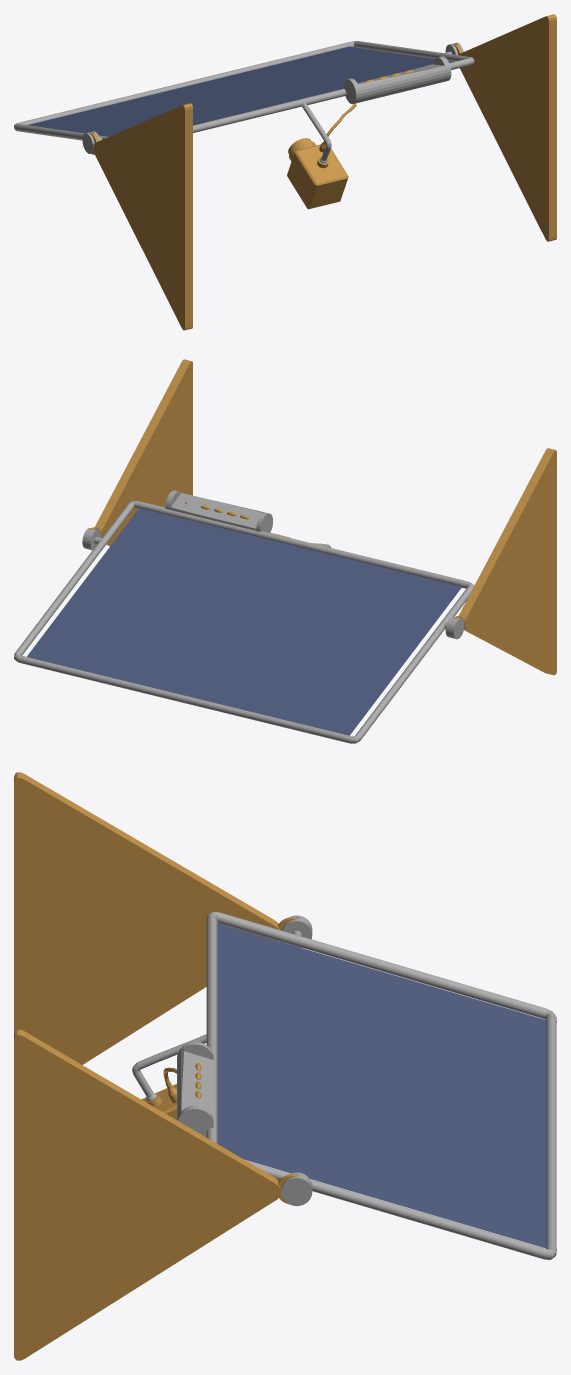
3 renders of one model, top to bottom at view 1: azimuth 30°, elevation 25°; view 2: azimuth 150°, elevation 25°; view 3: azimuth 270°, elevation 25°, orthographic. The views are drawn at different scales.
Parts seen in each view (by area): view 1: imagetostl_mesh5, imagetostl_mesh2, imagetostl_mesh1, imagetostl_mesh3, imagetostl_mesh4, imagetostl_mesh0; view 2: imagetostl_mesh2, imagetostl_mesh5, imagetostl_mesh1, imagetostl_mesh4, imagetostl_mesh0; view 3: imagetostl_mesh5, imagetostl_mesh2, imagetostl_mesh4, imagetostl_mesh1, imagetostl_mesh0.
Part boxes in pixels (x1=…): imagetostl_mesh5: x1=90, y1=14, x2=556, y2=330; imagetostl_mesh2: x1=27, y1=46, x2=453, y2=136; imagetostl_mesh1: x1=24, y1=43, x2=465, y2=132; imagetostl_mesh3: x1=287, y1=138, x2=348, y2=209; imagetostl_mesh4: x1=14, y1=41, x2=474, y2=163; imagetostl_mesh0: x1=343, y1=56, x2=451, y2=104; imagetostl_mesh2: x1=27, y1=508, x2=461, y2=735; imagetostl_mesh5: x1=90, y1=359, x2=556, y2=675; imagetostl_mesh1: x1=22, y1=502, x2=463, y2=742; imagetostl_mesh4: x1=14, y1=501, x2=474, y2=743; imagetostl_mesh0: x1=165, y1=490, x2=272, y2=532; imagetostl_mesh5: x1=14, y1=772, x2=298, y2=1360; imagetostl_mesh2: x1=217, y1=923, x2=546, y2=1248; imagetostl_mesh4: x1=132, y1=911, x2=556, y2=1259; imagetostl_mesh1: x1=206, y1=917, x2=556, y2=1247; imagetostl_mesh0: x1=177, y1=1042, x2=213, y2=1137.
Size of the model in its own units: 23.02 by 13.28 by 20.08.
